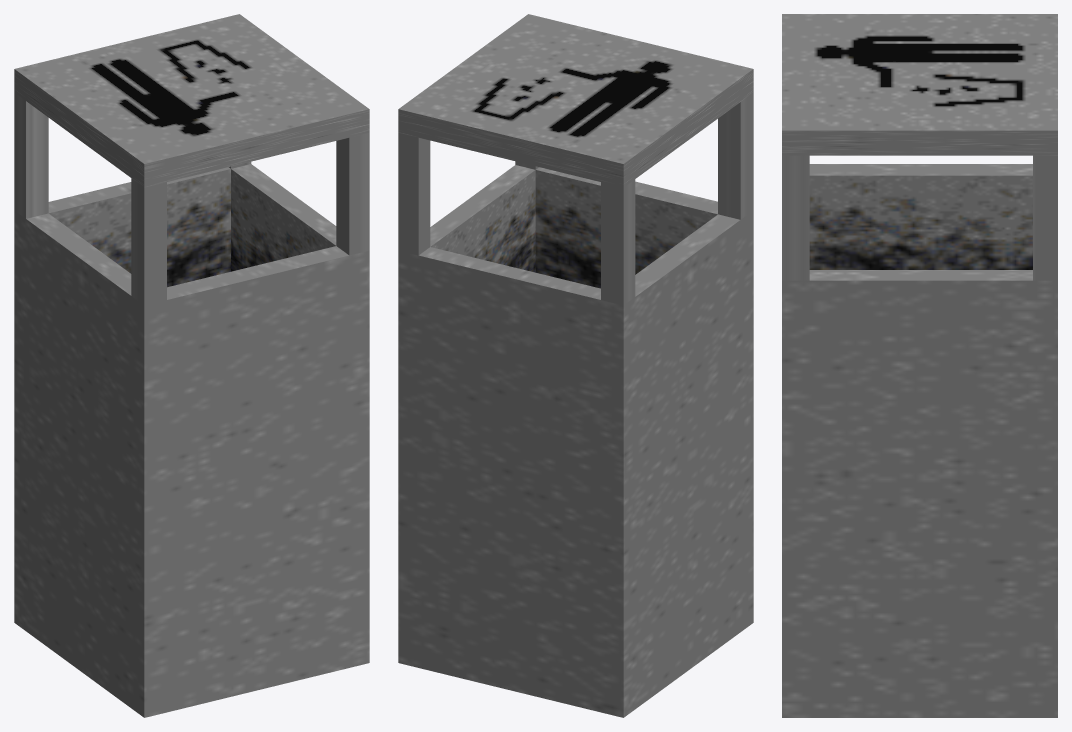
Rendered from garbage_bin.fbx.
3 renders of one model, left to right at view 1: azimuth 30°, elevation 25°; view 2: azimuth 150°, elevation 25°; view 3: azimuth 270°, elevation 25°, orthographic. The views are drawn at different scales.
Parts seen in each view (by area): view 1: Cube, Cube.001; view 2: Cube, Cube.001; view 3: Cube, Cube.001.
Part boxes in pixels (left/top/right/bottom): Cube: left=14, top=93, right=369, bottom=717; Cube.001: left=14, top=14, right=369, bottom=187; Cube: left=398, top=93, right=753, bottom=717; Cube.001: left=398, top=14, right=753, bottom=187; Cube: left=782, top=155, right=1057, bottom=717; Cube.001: left=782, top=14, right=1057, bottom=155.
Size of the model in its own units: 200 by 470 by 200.
